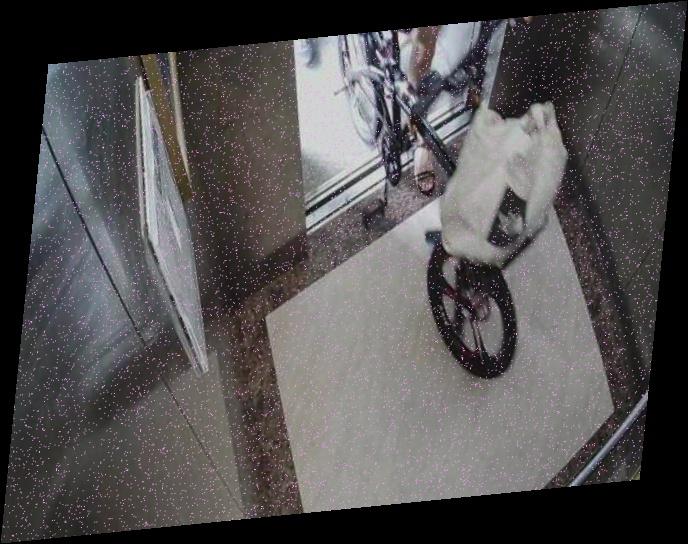bicycle: (331, 2, 569, 382)
